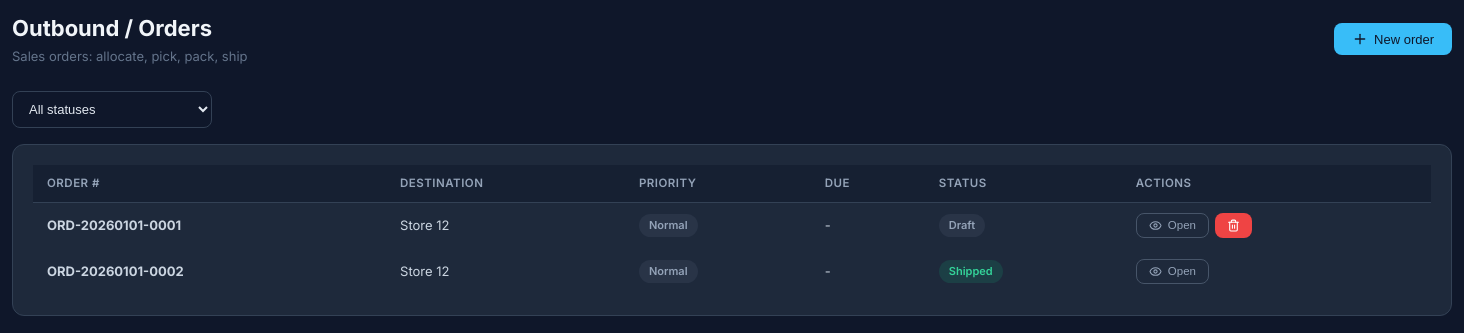
Outbound page › lists orders and filters by status
Expected: the text "ORD-20260101-0001" is shown, [47,216,181,232]
Select "Shipped" in the dropdown at (112, 109), box [12,90,212,128]
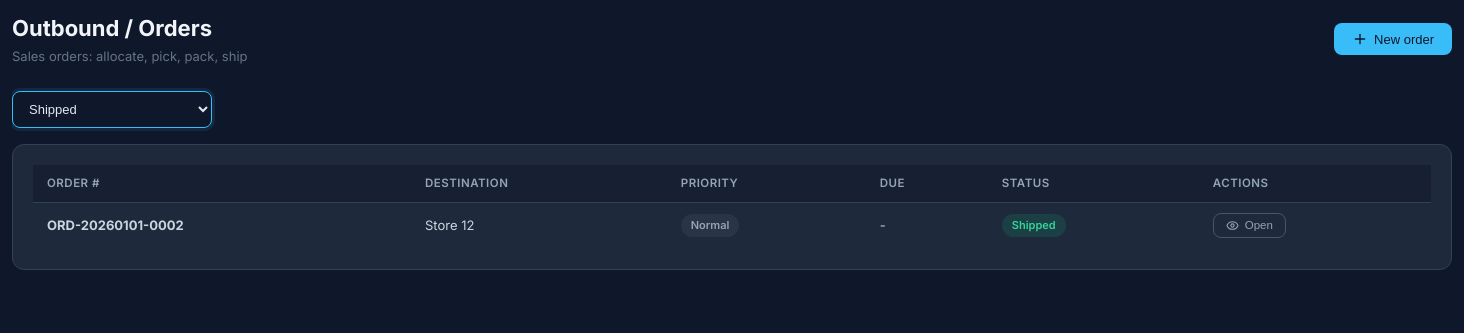
Expected: the text "ORD-20260101-0002" is shown, [47,216,184,232]
Expected: the text "ORD-20260101-0001" is gone
